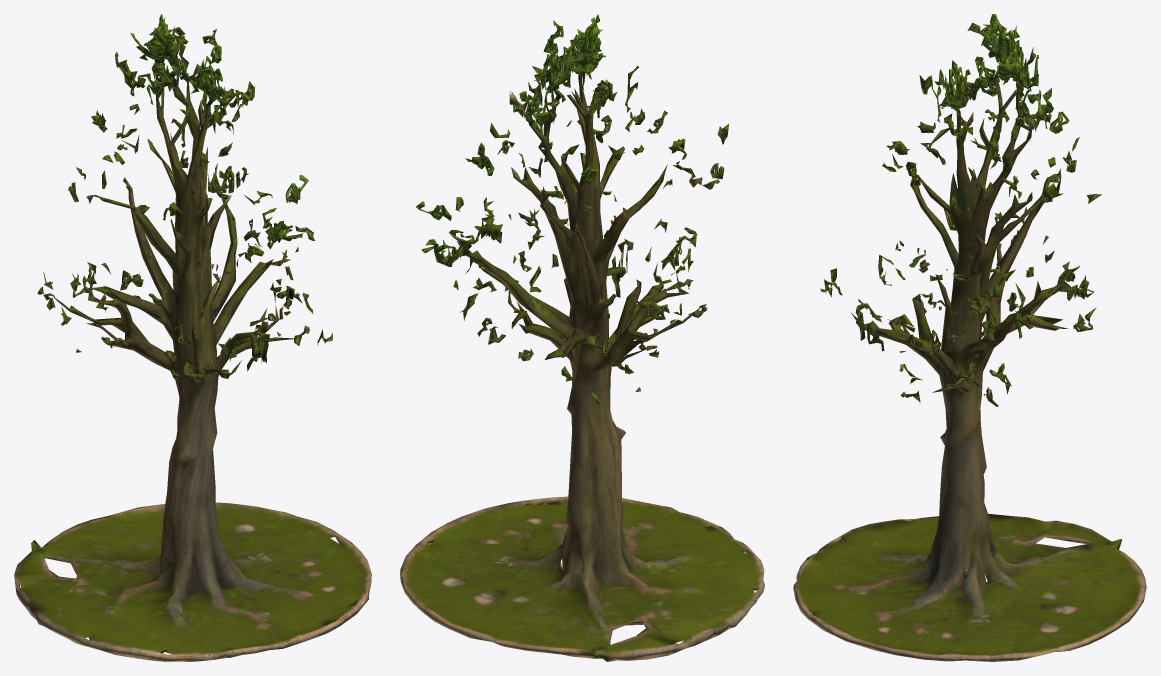
File: Tree_Asset_Large_Tall_V1.2.glb
The picture shows the model from 3 angles, left to right: view 1: azimuth 30°, elevation 25°; view 2: azimuth 150°, elevation 25°; view 3: azimuth 270°, elevation 25°; orthographic projection.
Bounding box in the file's own units: 1.11 × 1.98 × 1.11.
Materials: 1 (1 with a texture image).
